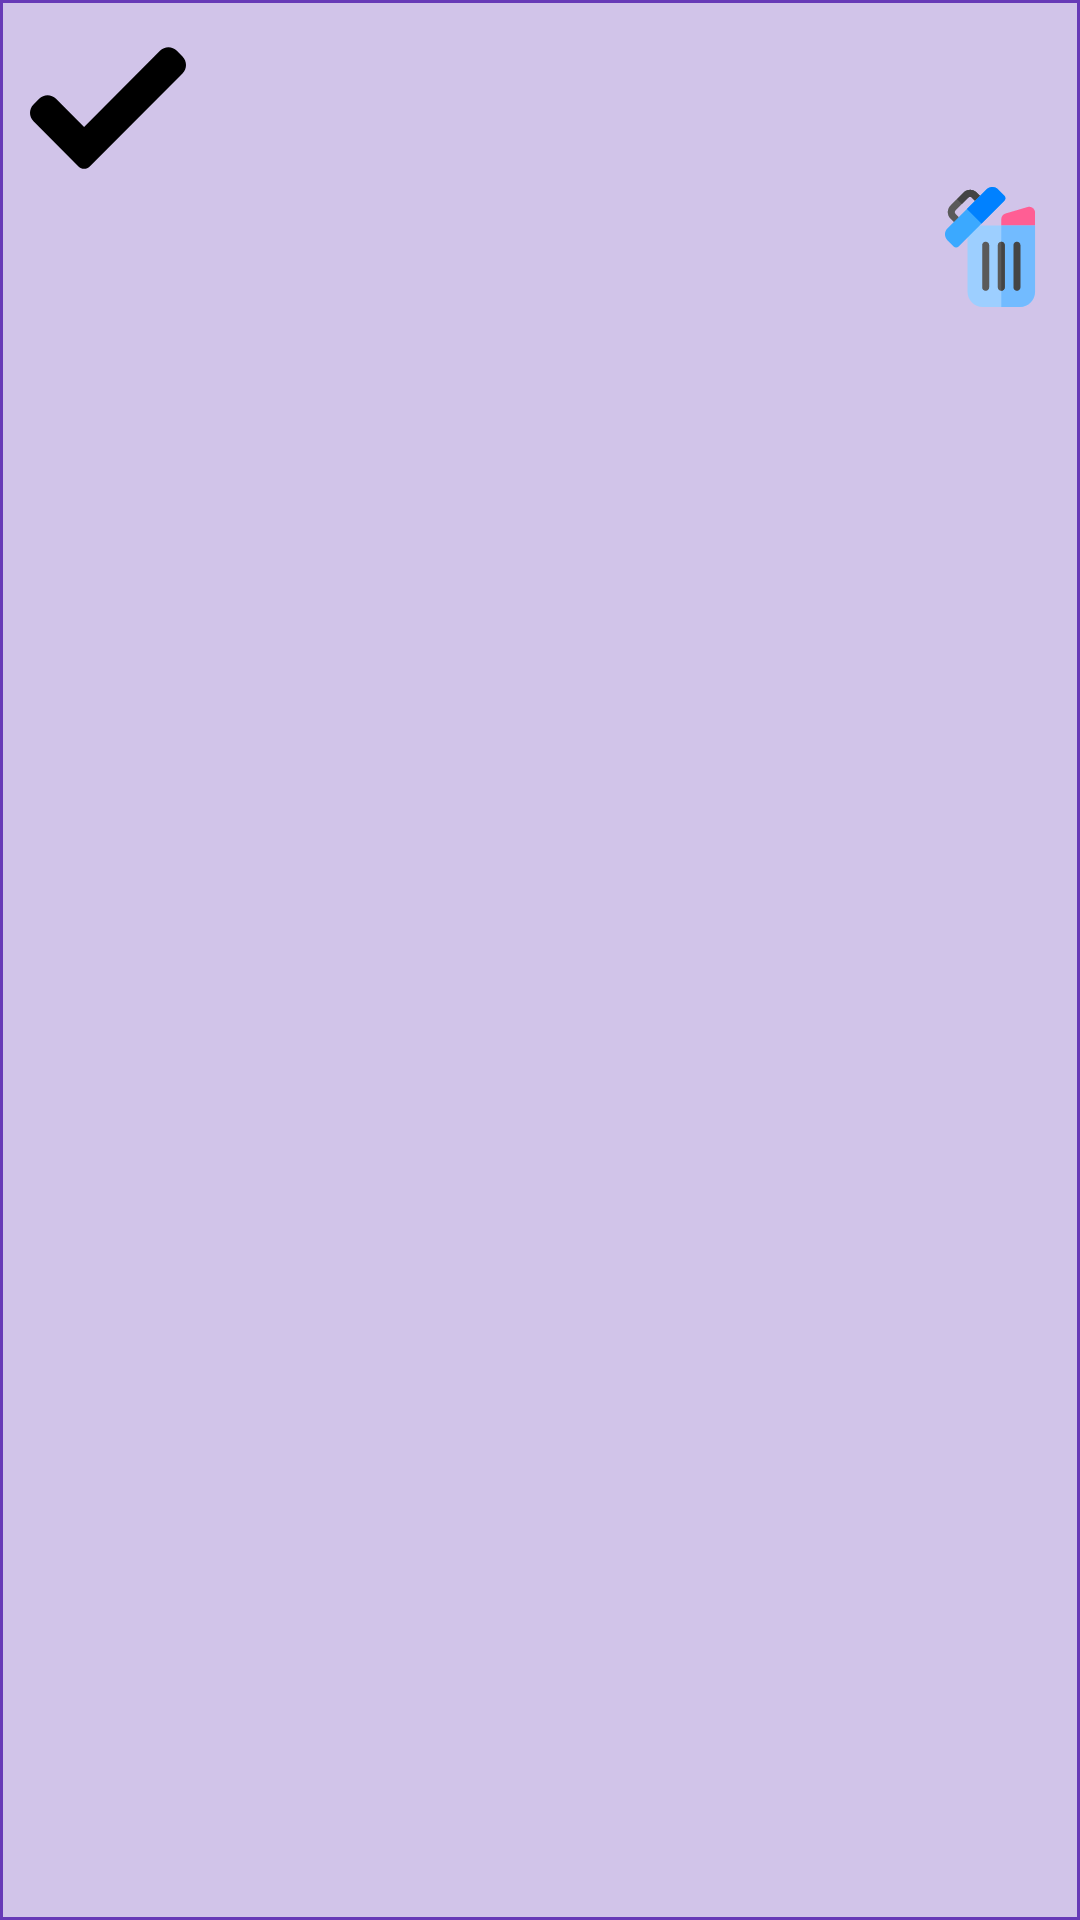

Where icons sit on this 1080px×1920px app screen, as (x1, y1, x2, y2):
checkbox: (30, 47, 186, 169)
delete: (945, 187, 1035, 307)
